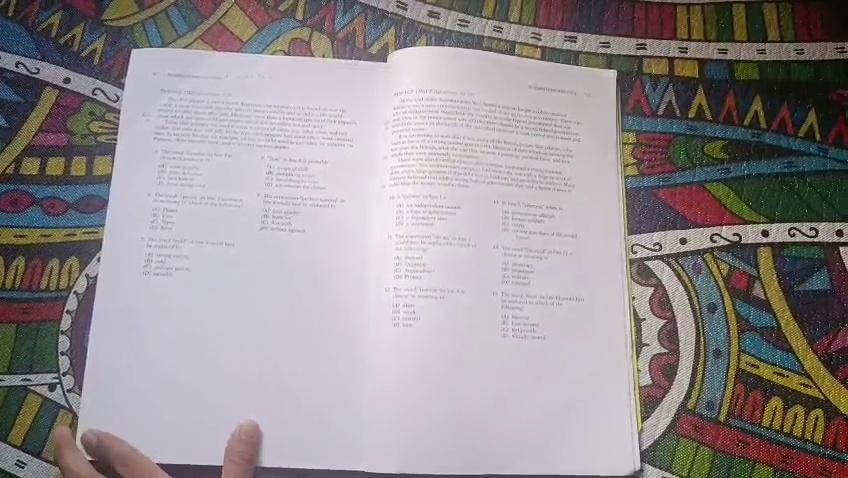Kertas: (132, 62, 430, 418), (381, 73, 616, 476)
